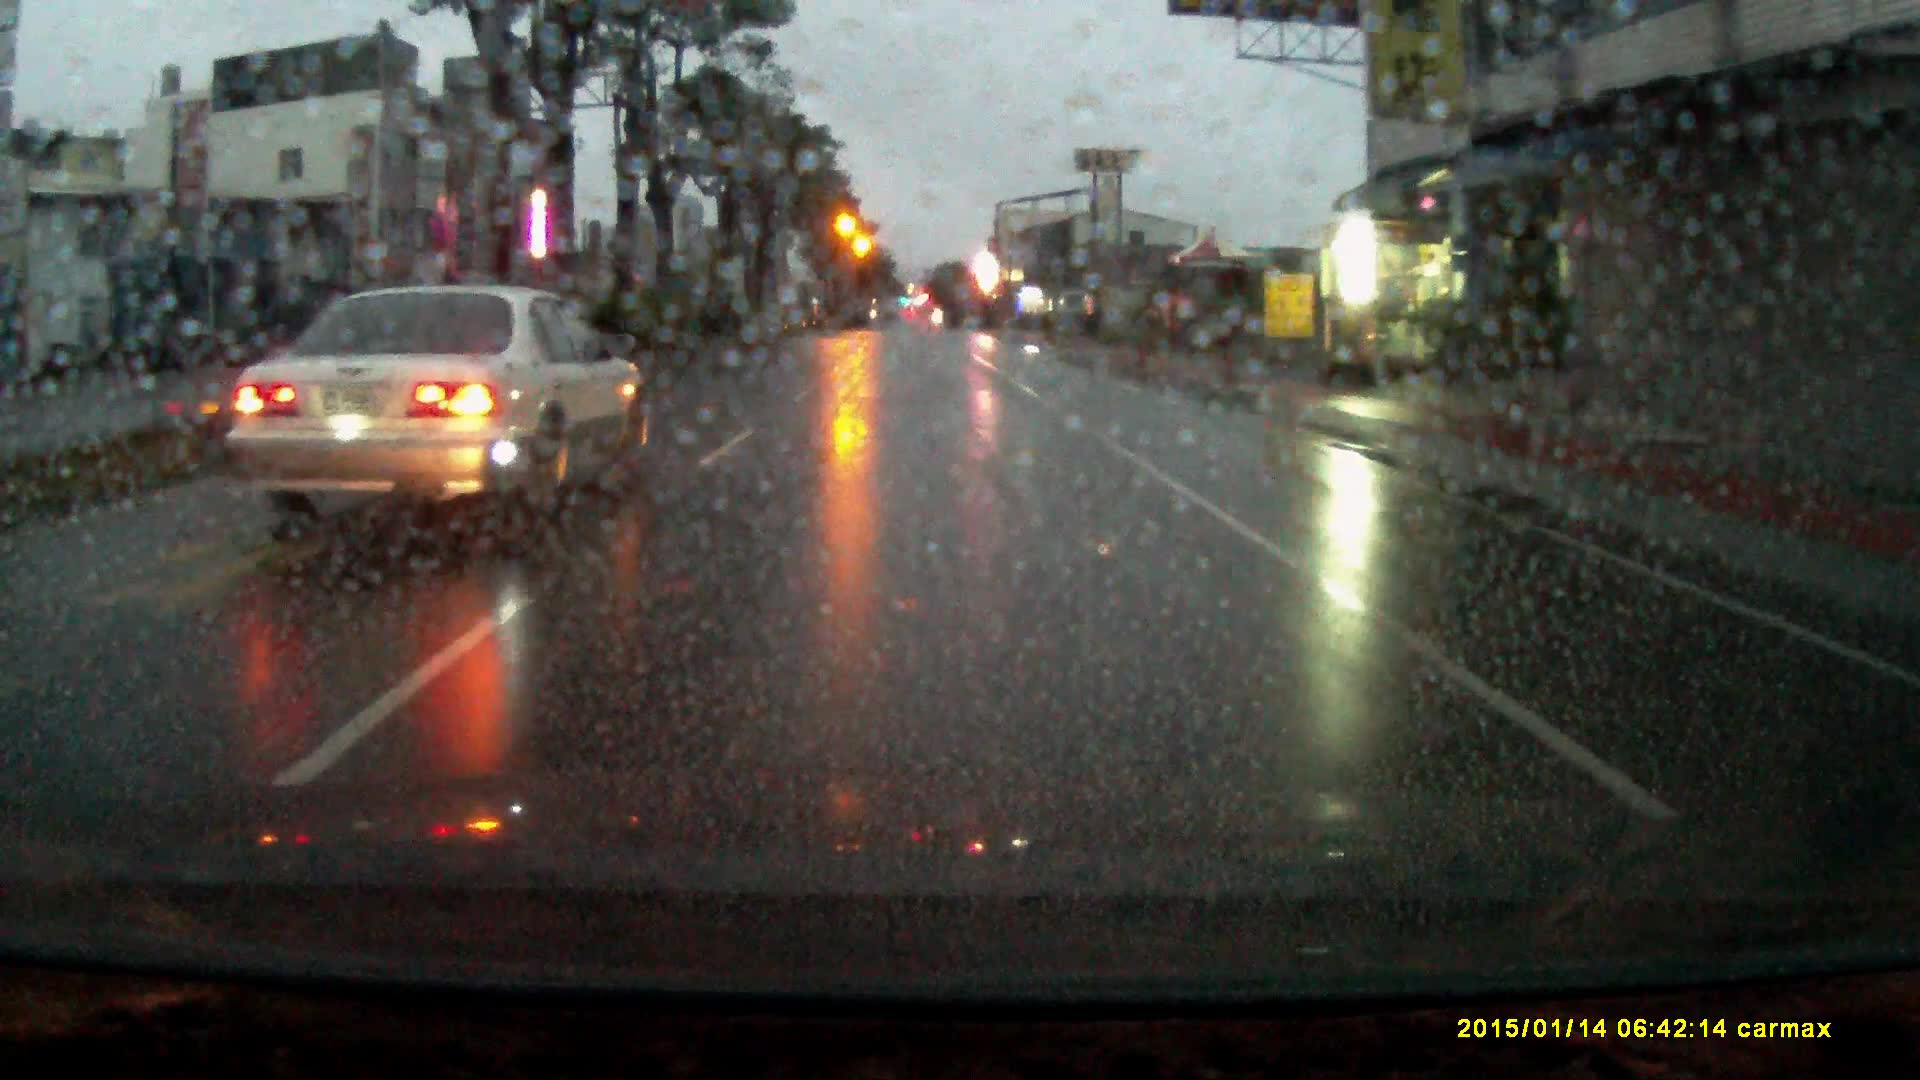vehicle: (222, 289, 653, 535)
